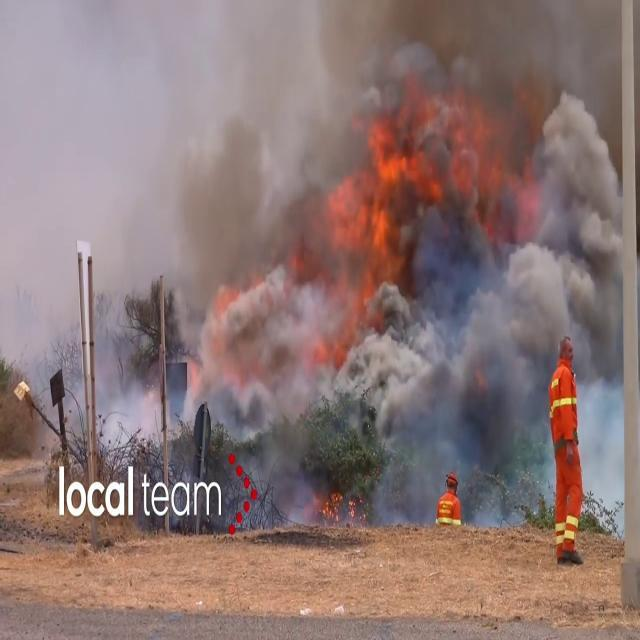Fire: (325, 68, 502, 288)
Smoke: (162, 0, 627, 517)
